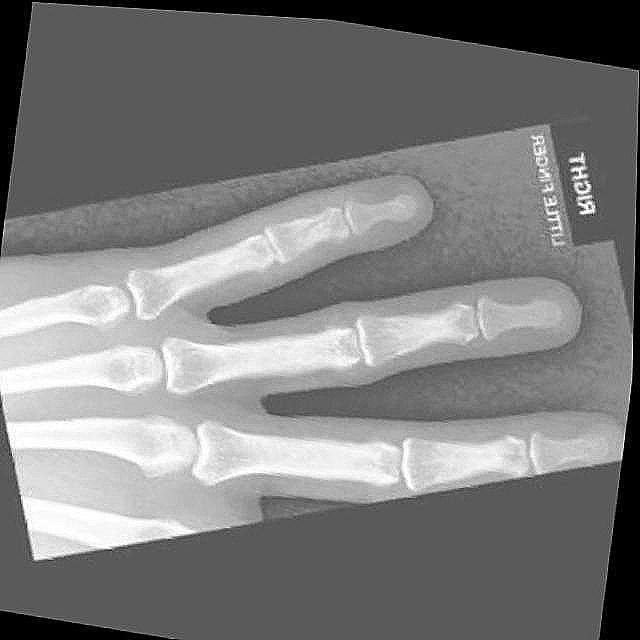bone: (284, 190, 356, 250)
